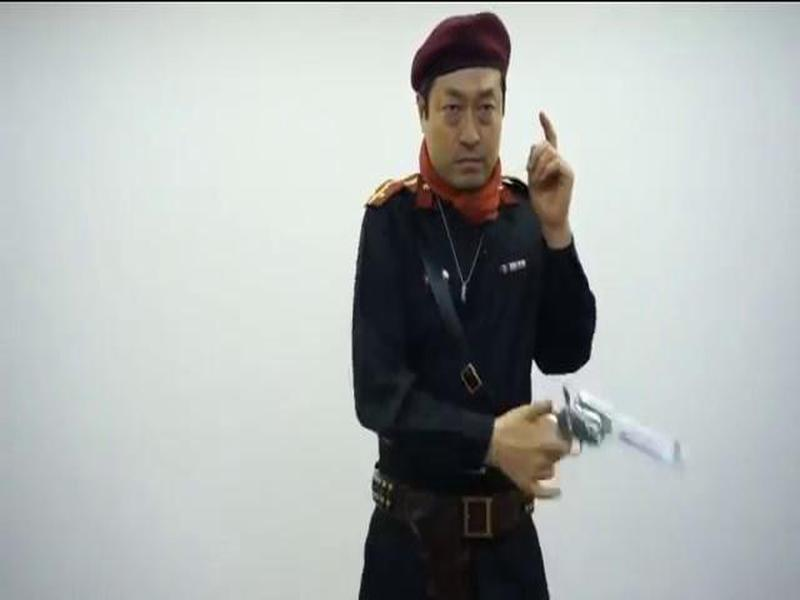Revolver: (538, 376, 698, 513)
